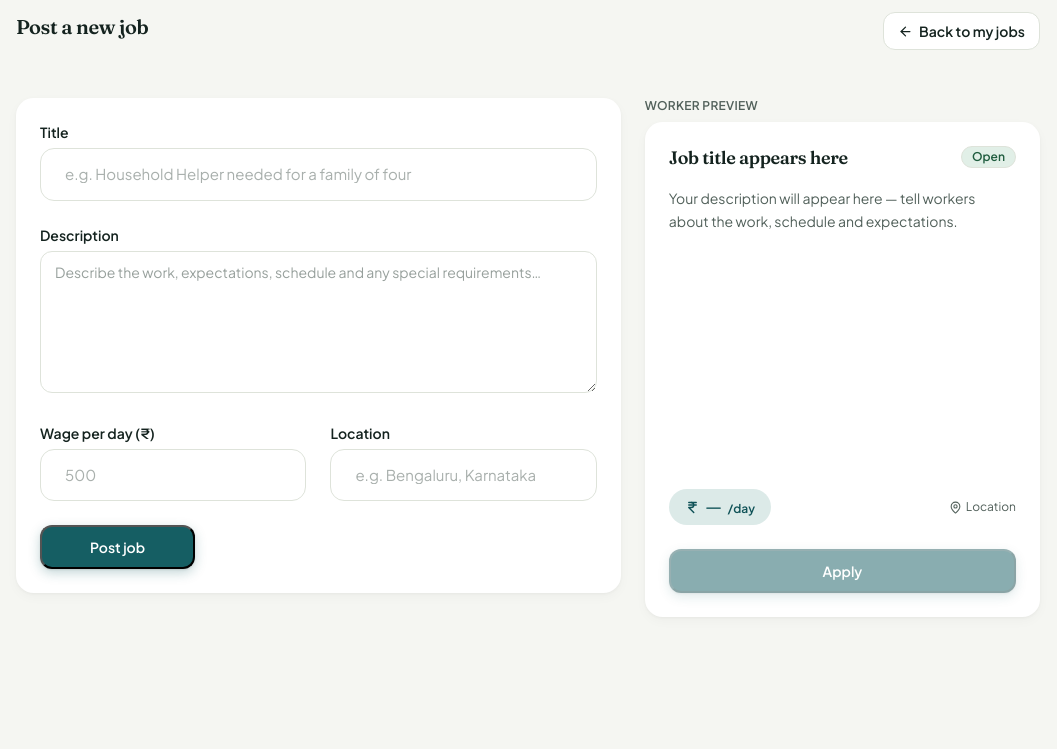
it: PostJob › create mode › clears a field error as soon as the user edits that field
Click the button "Post job" at (118, 547), box [40,525,195,569]
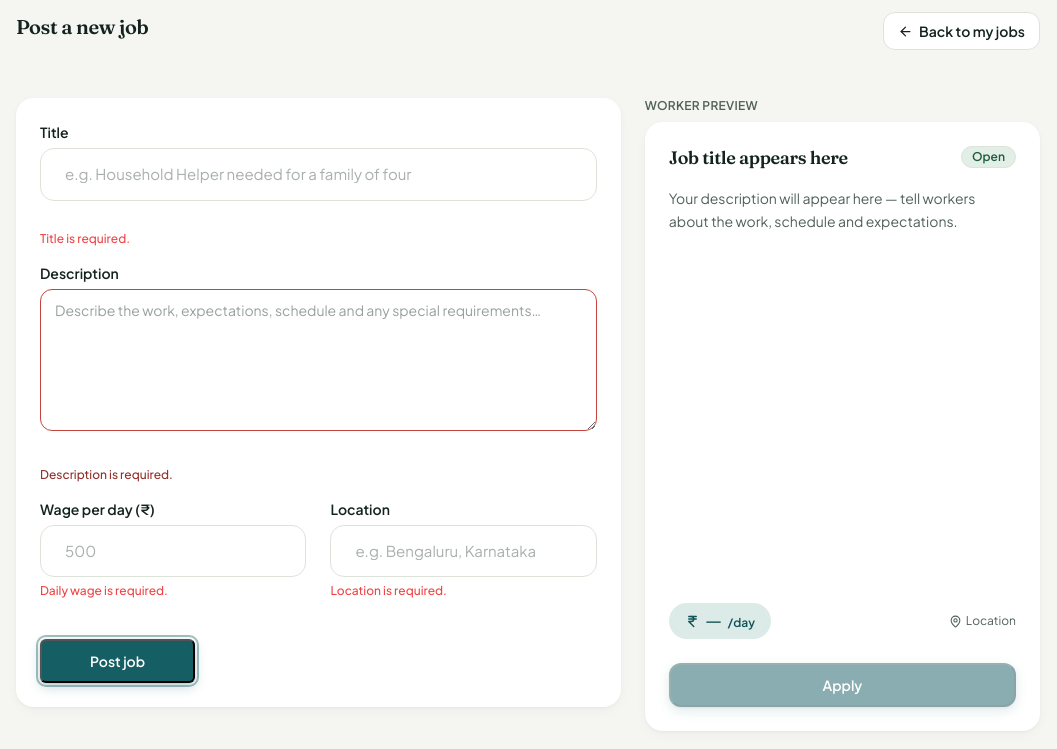
Expected: the text "Title is required." is shown, [40,230,130,246]
Type "H" into the field labelled "Title" at (318, 174), box [40,148,597,200]
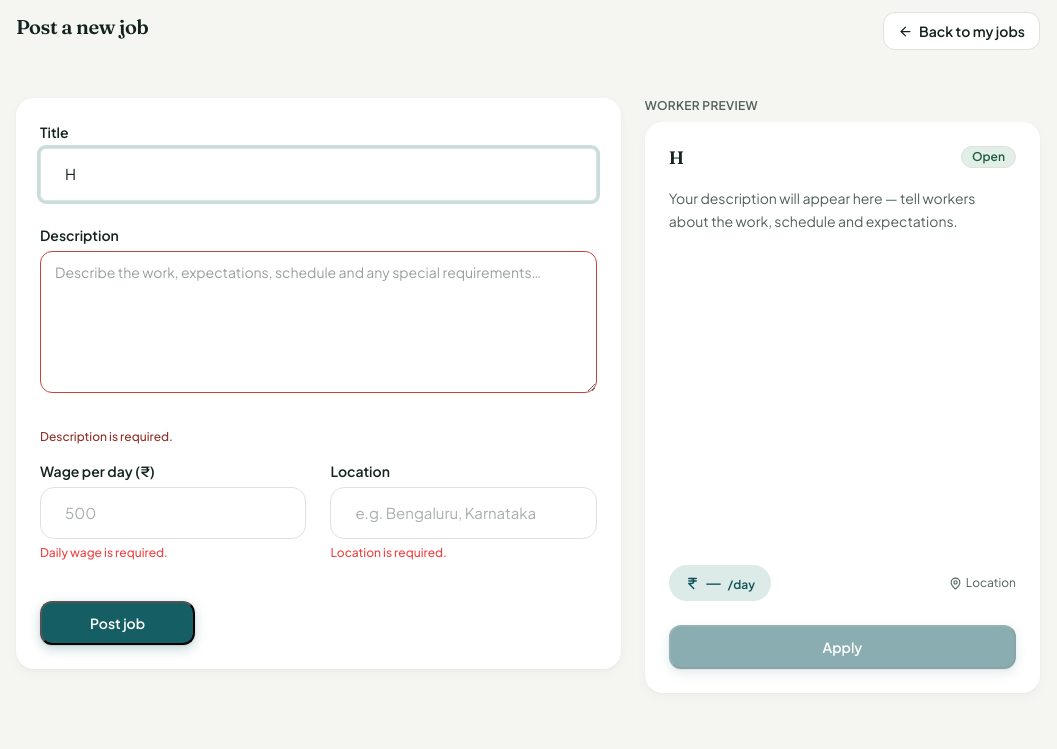
Expected: the text "Title is required." is gone
